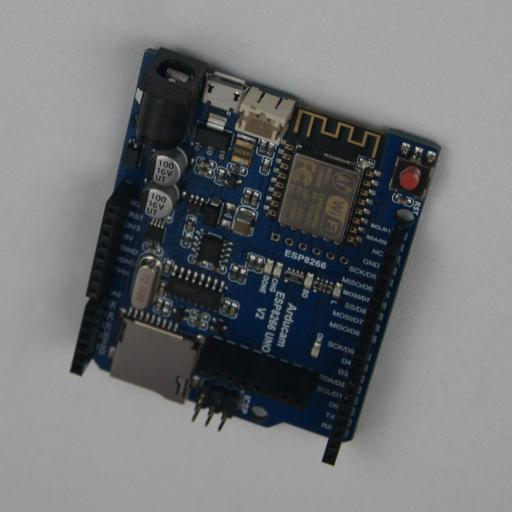Arduino Uno Camera Shield: (70, 47, 441, 466)
